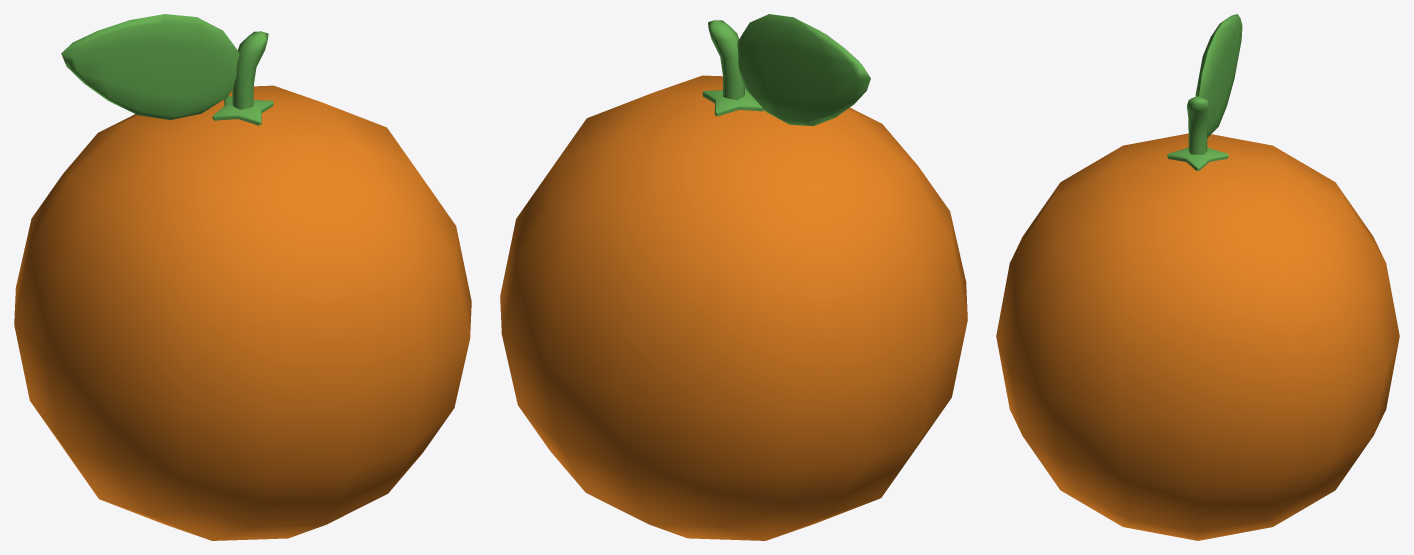
Rendered from Orange.fbx.
3 views of the same model, side by side, from view 1: azimuth 30°, elevation 25°; view 2: azimuth 150°, elevation 25°; view 3: azimuth 270°, elevation 25° (orthographic). The views are drawn at different scales.
Visible parts, largest first — view 1: Orange; view 2: Orange; view 3: Orange.
Boxes of the visible parts, box(x1,y1,x2,y2) form: Orange: box(14, 14, 471, 540); Orange: box(500, 14, 967, 540); Orange: box(996, 14, 1399, 540).
Size of the model in its own units: 13.32 by 16.65 by 13.32.
